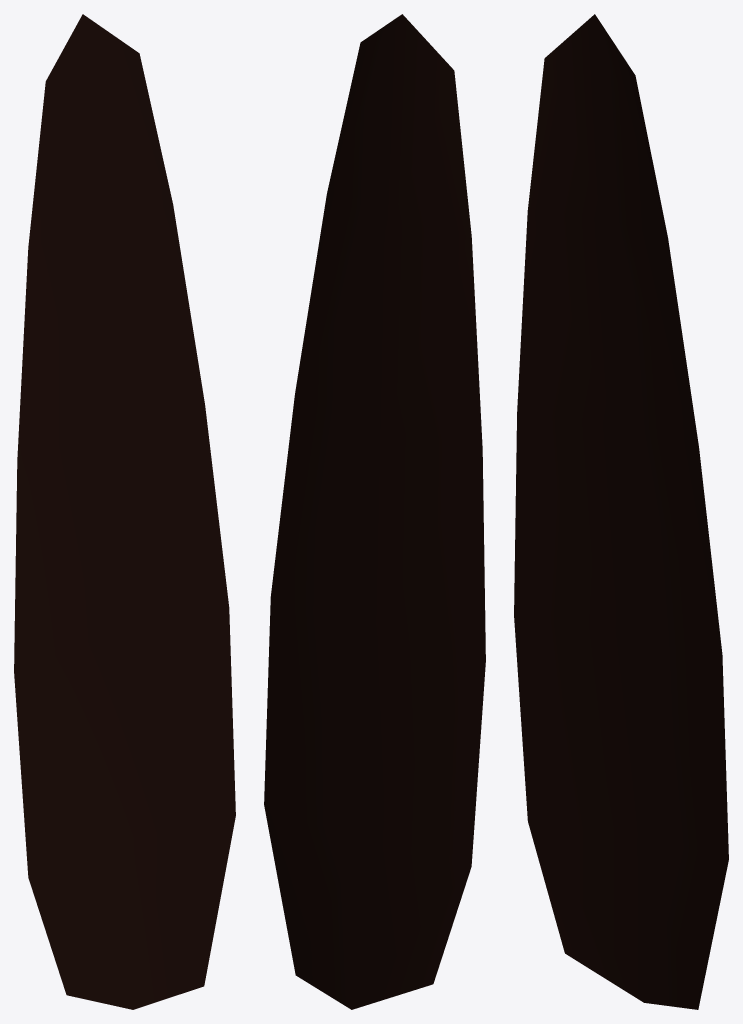
Rendered from finch_feather_flight_secondary_022.obj.
3 views of the same model, side by side, from view 1: azimuth 30°, elevation 25°; view 2: azimuth 150°, elevation 25°; view 3: azimuth 330°, elevation 25° (orthographic). The views are drawn at different scales.
Parts seen in each view (by area): view 1: feather_flight_secondary_022; view 2: feather_flight_secondary_022; view 3: feather_flight_secondary_022.
Part boxes in pixels (bbox=[...]): feather_flight_secondary_022: bbox=[14, 14, 235, 1009]; feather_flight_secondary_022: bbox=[264, 14, 485, 1009]; feather_flight_secondary_022: bbox=[514, 14, 728, 1009].
Bounding box in the file's own units: 0.00577 × 0.0251 × 0.000341.
